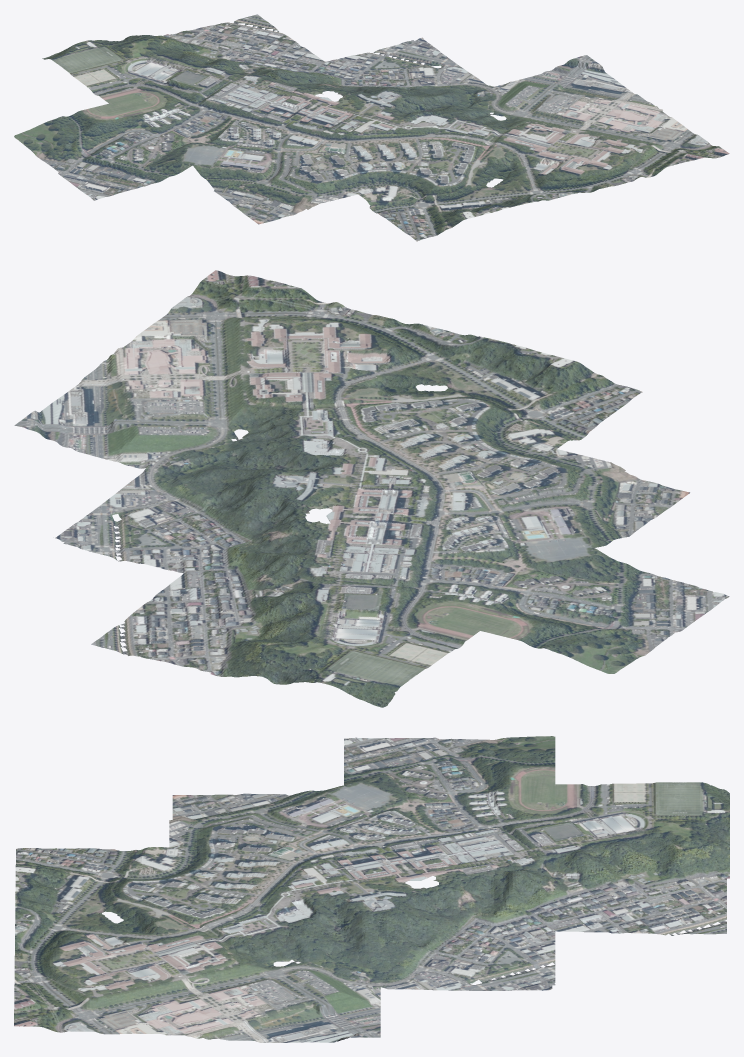
Rendered from schoolmodel_Ground.fbx.
3 renders of one model, top to bottom at view 1: azimuth 30°, elevation 25°; view 2: azimuth 150°, elevation 25°; view 3: azimuth 270°, elevation 25°, orthographic. The views are drawn at different scales.
Parts seen in each view (by area): view 1: dem_f01bda81-216a-44b7-a668-f434b4270b20; view 2: dem_f01bda81-216a-44b7-a668-f434b4270b20; view 3: dem_f01bda81-216a-44b7-a668-f434b4270b20.
Boxes of the visible parts, box(x1,y1,x2,y2) form: dem_f01bda81-216a-44b7-a668-f434b4270b20: box(14, 14, 729, 241); dem_f01bda81-216a-44b7-a668-f434b4270b20: box(14, 270, 729, 707); dem_f01bda81-216a-44b7-a668-f434b4270b20: box(14, 736, 729, 1042).
Size of the model in its own units: 12.1 by 0.5692 by 11.69.
